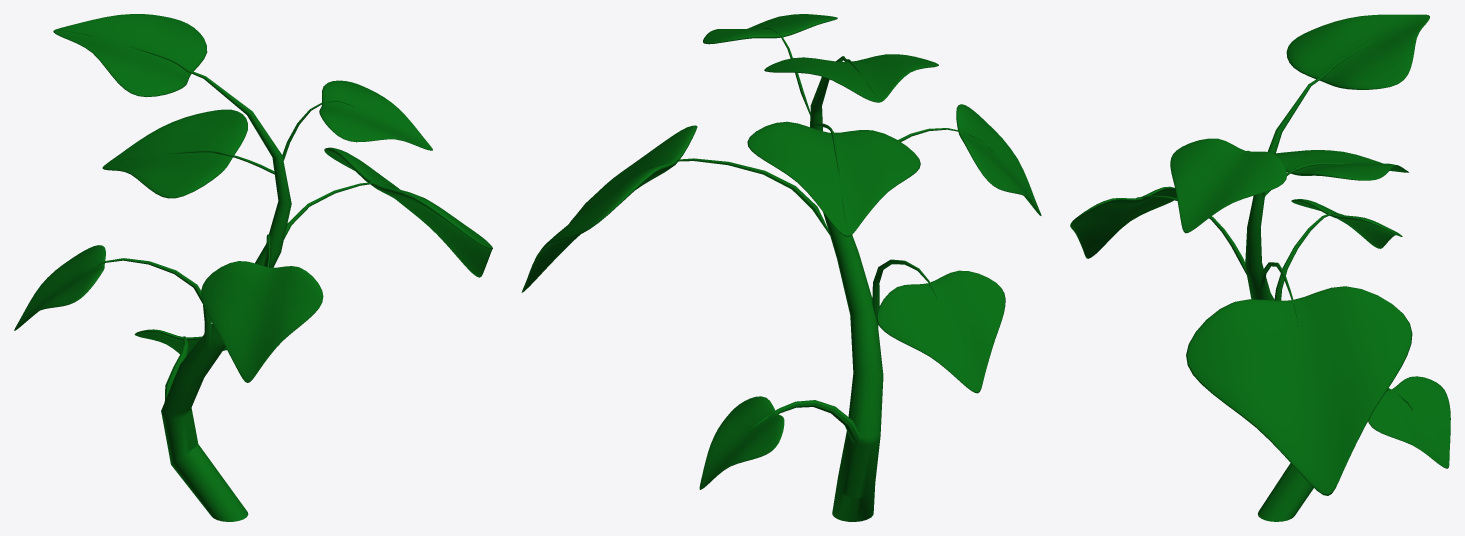
Rendered from Bush02.fbx.
3 views of the same model, side by side, from view 1: azimuth 30°, elevation 25°; view 2: azimuth 150°, elevation 25°; view 3: azimuth 270°, elevation 25° (orthographic). The views are drawn at different scales.
Visible parts, largest first — view 1: pasted__group24_pasted__Trunk_pasted__polySurface3; view 2: pasted__group24_pasted__Trunk_pasted__polySurface3; view 3: pasted__group24_pasted__Trunk_pasted__polySurface3.
Part boxes in pixels (x1,y1,x2,y2): pasted__group24_pasted__Trunk_pasted__polySurface3: [14, 14, 492, 521]; pasted__group24_pasted__Trunk_pasted__polySurface3: [521, 14, 1041, 521]; pasted__group24_pasted__Trunk_pasted__polySurface3: [1070, 14, 1450, 521].
Bounding box in the file's own units: 12.71 × 12.67 × 9.58.
